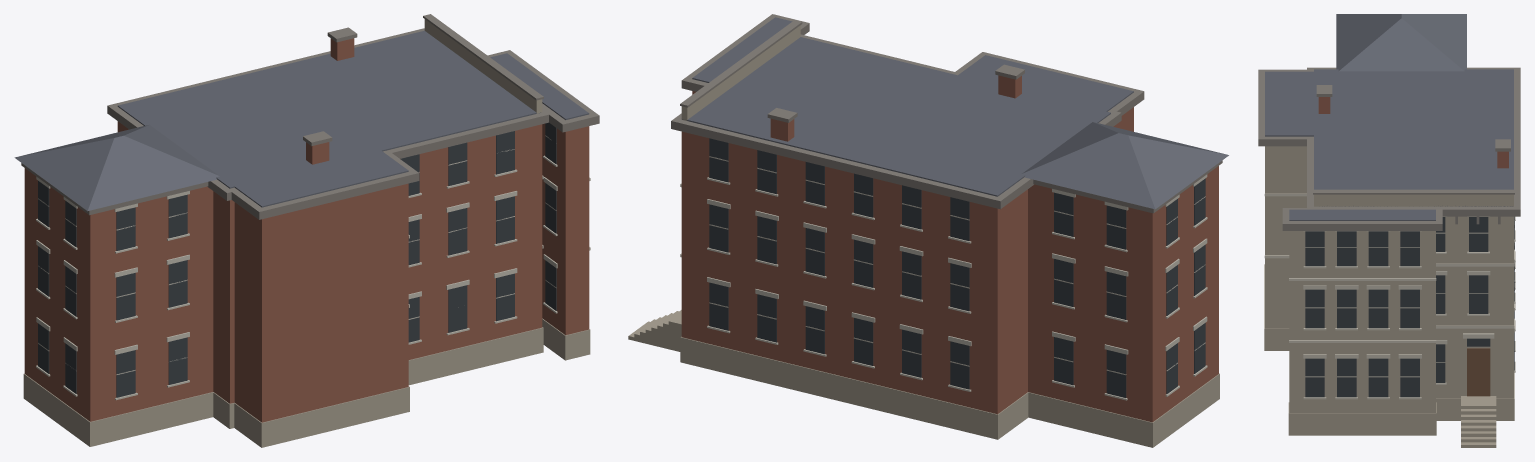
The model's file is house_2017_prairie__draft_1904.glb.
3 views of the same model, side by side, from view 1: azimuth 30°, elevation 25°; view 2: azimuth 150°, elevation 25°; view 3: azimuth 270°, elevation 25° (orthographic). The views are drawn at different scales.
Parts seen in each view (by area): view 1: house_2017_prairie__draft_1904; view 2: house_2017_prairie__draft_1904; view 3: house_2017_prairie__draft_1904.
Boxes of the visible parts, left/top/right/bottom form: house_2017_prairie__draft_1904: left=14, top=14, right=599, bottom=447; house_2017_prairie__draft_1904: left=628, top=14, right=1228, bottom=447; house_2017_prairie__draft_1904: left=1258, top=14, right=1520, bottom=447.
Size of the model in its own units: 26.65 by 13.66 by 13.45.
